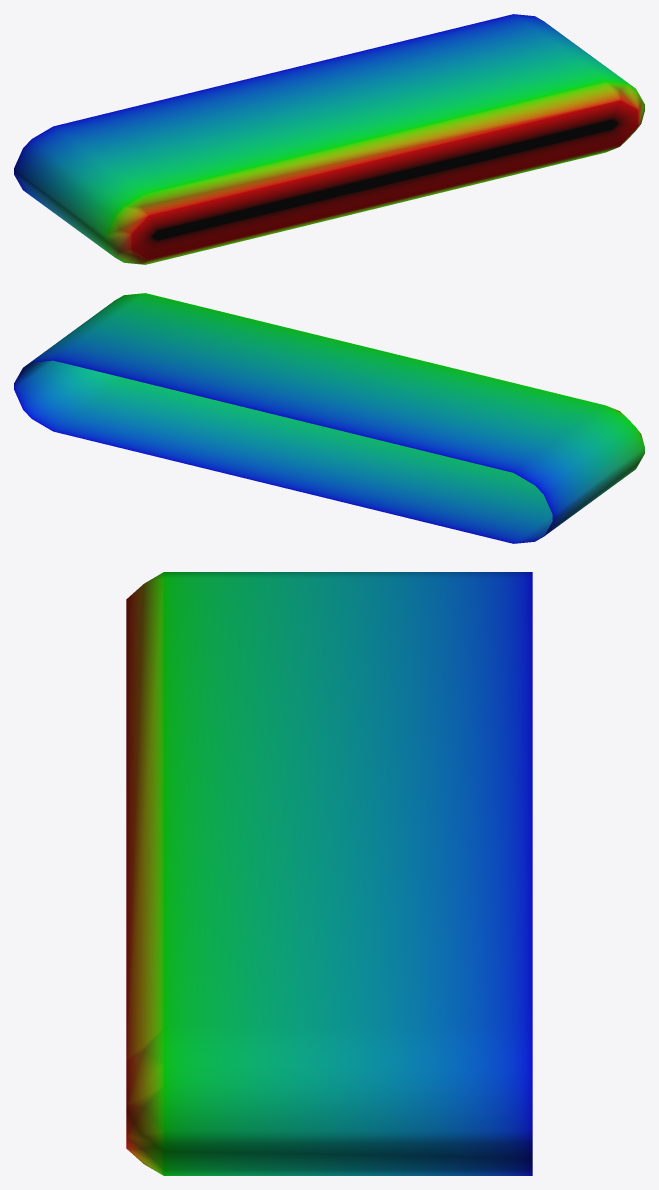
The model's file is scenery_block_thin.fbx.
3 views of the same model, one above another, from view 1: azimuth 30°, elevation 25°; view 2: azimuth 150°, elevation 25°; view 3: azimuth 270°, elevation 25° (orthographic). The views are drawn at different scales.
Visible parts, largest first — view 1: Plane; view 2: Plane; view 3: Plane.
Boxes of the visible parts, x1,y1,x2,y2 form: Plane: (14,14,644,264); Plane: (14,293,644,543); Plane: (126,572,532,1175).
Bounding box in the file's own units: 793 × 99.81 × 259.
